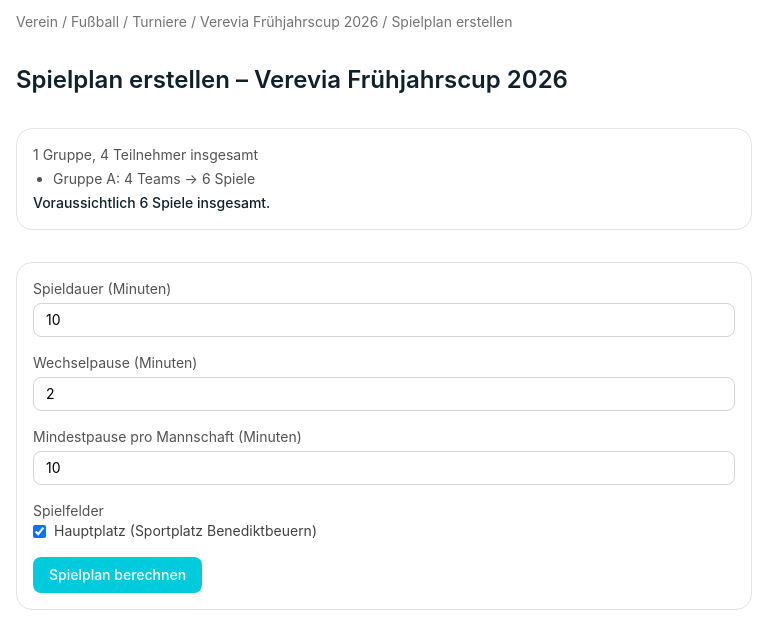
Test: TournamentScheduleGenerator › shows conflicts and no commit button when the preview is invalid
The width and height of the screenshot is (769, 627).
Click the button "Spielplan berechnen" at {"x": 118, "y": 575}, box x1=33 y1=557 x2=202 y2=593
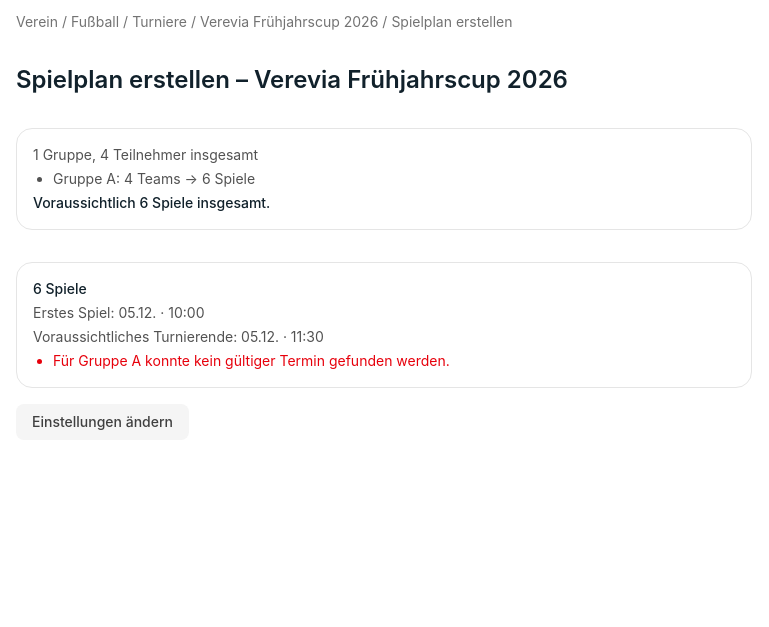
Check: the list item "Für Gruppe A konnte kein gültiger Termin gefunden werden." is shown, box x1=53 y1=352 x2=450 y2=369
